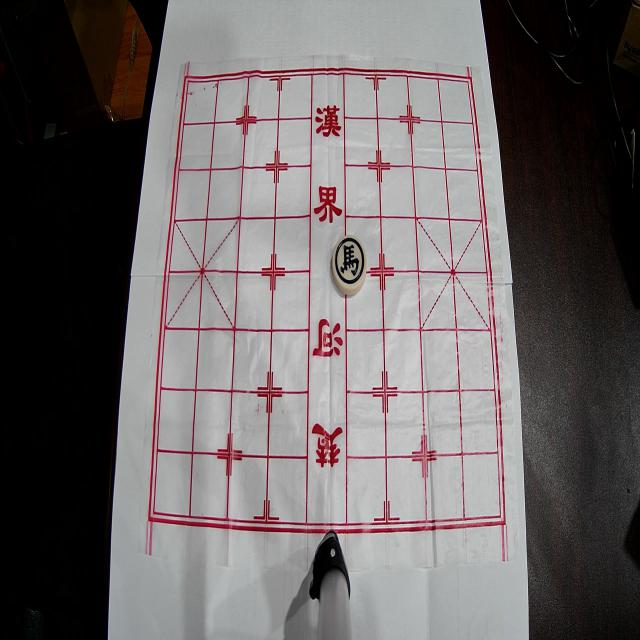black-horse: (332, 235, 367, 295)
